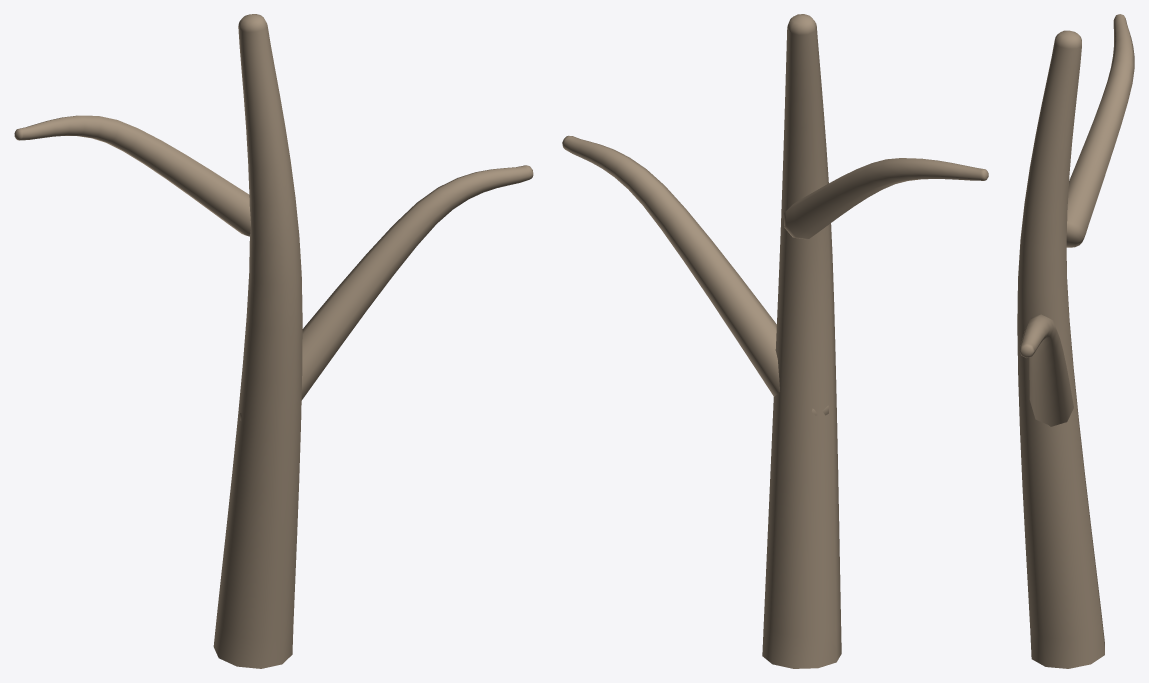
The model's file is birds-and-flying-creatures-bare-perch-branch-fe58b1d7__20663.glb.
3 renders of one model, left to right at view 1: azimuth 30°, elevation 25°; view 2: azimuth 150°, elevation 25°; view 3: azimuth 270°, elevation 25°, orthographic. The views are drawn at different scales.
Parts seen in each view (by area): view 1: bare-perch-branch; view 2: bare-perch-branch; view 3: bare-perch-branch.
Boxes of the visible parts, x1=… form: bare-perch-branch: x1=14, y1=14, x2=533, y2=668; bare-perch-branch: x1=562, y1=14, x2=988, y2=668; bare-perch-branch: x1=1017, y1=14, x2=1134, y2=668.
Size of the model in its own units: 1.02 by 1.33 by 0.227.
